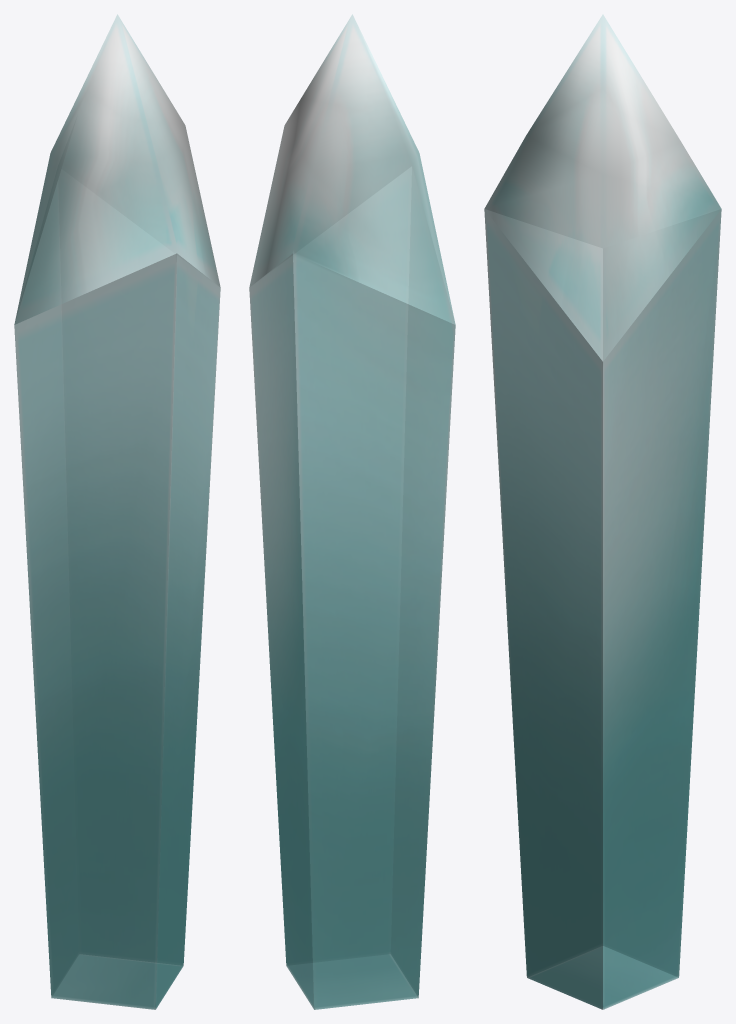
The model's file is Crystal_ver.1.fbx.
The picture shows the model from 3 angles, left to right: view 1: azimuth 30°, elevation 25°; view 2: azimuth 150°, elevation 25°; view 3: azimuth 270°, elevation 25°; orthographic projection.
Visible parts, largest first — view 1: Crystal; view 2: Crystal; view 3: Crystal.
Part boxes in pixels (x1,y1,x2,y2): Crystal: [14, 14, 220, 1009]; Crystal: [249, 14, 455, 1009]; Crystal: [484, 14, 721, 1009].
Size of the model in its own units: 21.21 by 95.07 by 21.21.
